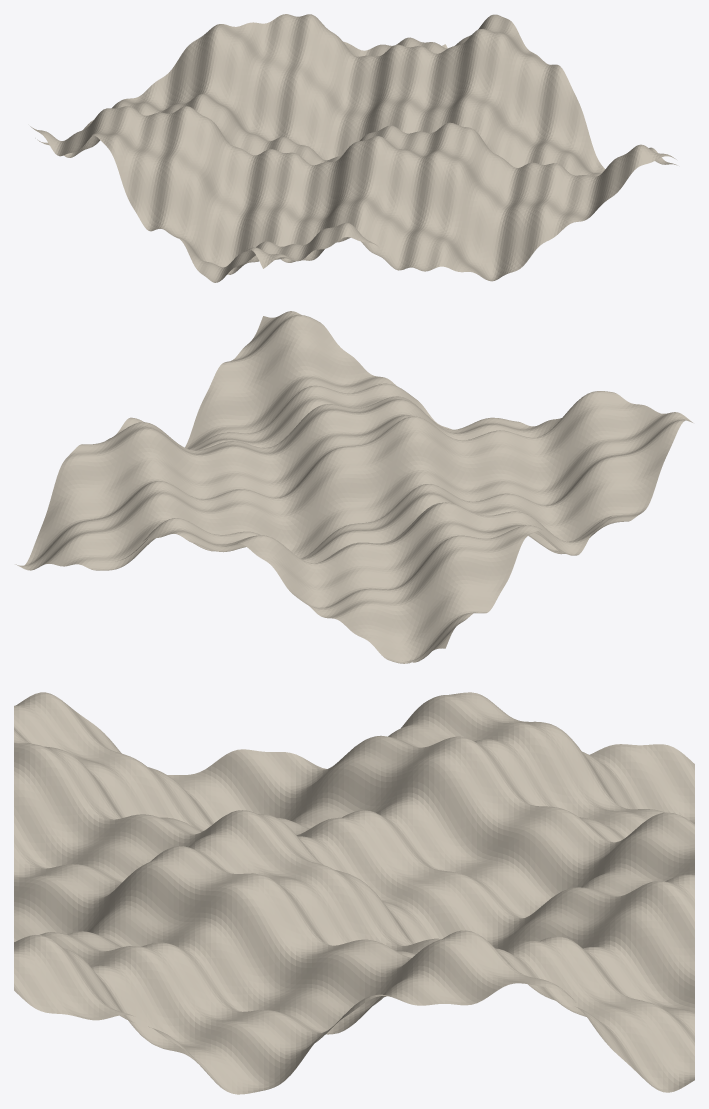
Rendered from cluster-terrain.glb.
The picture shows the model from 3 angles, top to bottom: view 1: azimuth 30°, elevation 25°; view 2: azimuth 150°, elevation 25°; view 3: azimuth 270°, elevation 25°; orthographic projection. The views are drawn at different scales.
Parts seen in each view (by area): view 1: terrain; view 2: terrain; view 3: terrain.
Boxes of the visible parts, x1=… form: terrain: x1=30, y1=14, x2=677, y2=282; terrain: x1=15, y1=311, x2=692, y2=663; terrain: x1=14, y1=692, x2=694, y2=1094.
Size of the model in its own units: 40 by 8.88 by 40.
